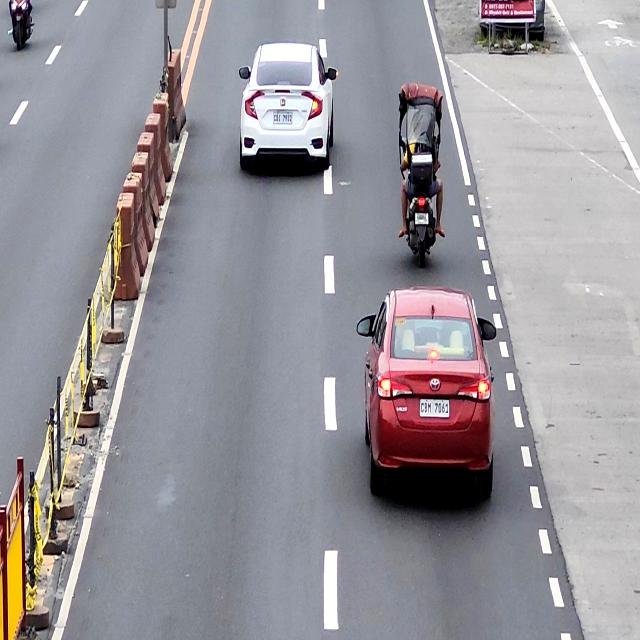Car: (356, 287, 496, 499), (239, 42, 338, 171)
License-Plate: (420, 397, 450, 419), (273, 110, 293, 126), (415, 212, 429, 226)
Motorcycle: (400, 127, 440, 263)
